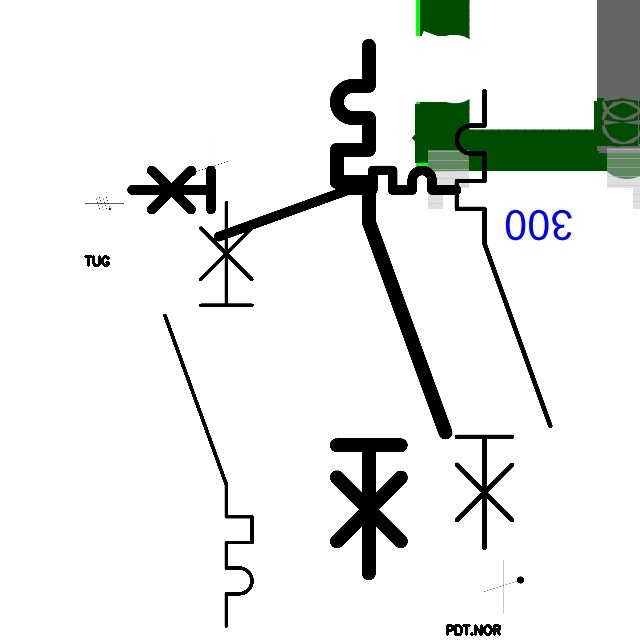interruptor_termomagnetico: (323, 32, 459, 587), (445, 79, 562, 559), (154, 191, 263, 637), (123, 162, 464, 245)
